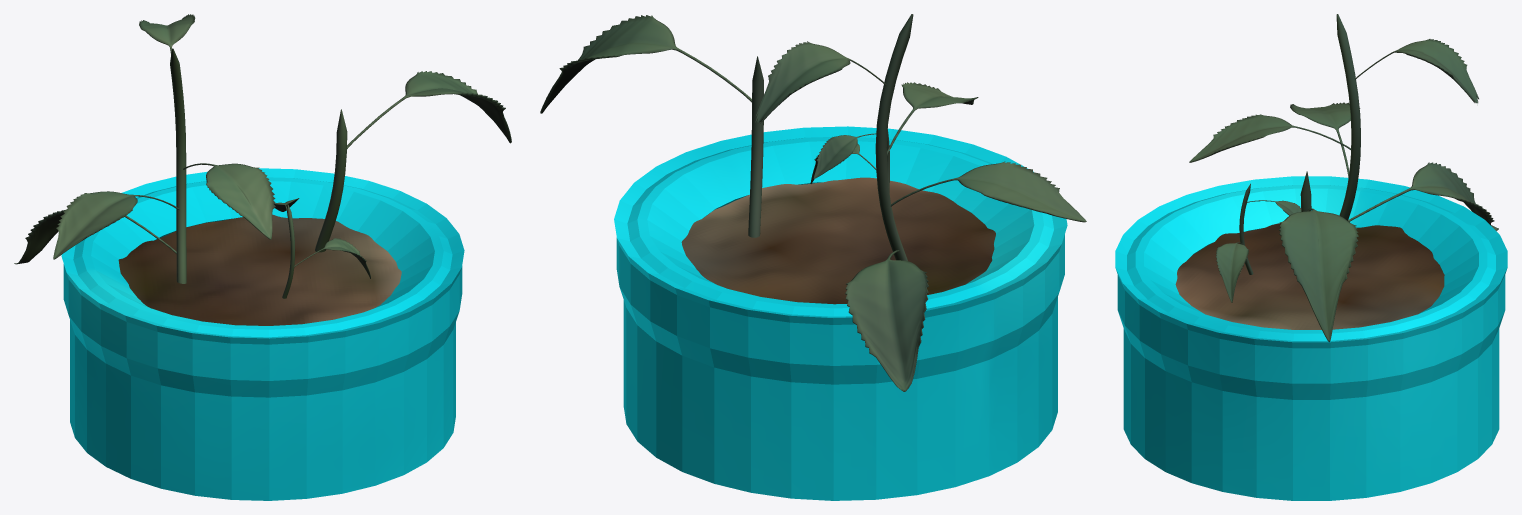
File: faza_1 (1).fbx
The picture shows the model from 3 angles, left to right: view 1: azimuth 30°, elevation 25°; view 2: azimuth 150°, elevation 25°; view 3: azimuth 270°, elevation 25°; orthographic projection. The views are drawn at different scales.
Parts seen in each view (by area): view 1: горшок.002, земля.002, list.007, Стебель.002, list.009, Стебель_3.002, list.008; view 2: горшок.002, земля.002, list.007, list.009, Стебель.002, Стебель_3.002, list.008; view 3: горшок.002, земля.002, list.007, list.009, Стебель.002, list.008.
Part boxes in pixels (bbox=[...]): горшок.002: bbox=[61, 168, 464, 500]; земля.002: bbox=[118, 214, 401, 325]; list.007: bbox=[14, 14, 275, 264]; Стебель.002: bbox=[170, 48, 186, 283]; list.009: bbox=[347, 71, 511, 148]; Стебель_3.002: bbox=[315, 109, 347, 252]; list.008: bbox=[274, 198, 370, 278]; горшок.002: bbox=[614, 126, 1067, 500]; земля.002: bbox=[681, 177, 995, 304]; list.007: bbox=[755, 41, 1086, 391]; list.009: bbox=[540, 15, 751, 113]; Стебель.002: bbox=[875, 14, 913, 260]; Стебель_3.002: bbox=[748, 56, 763, 237]; list.008: bbox=[810, 133, 876, 183]; горшок.002: bbox=[1115, 176, 1507, 500]; земля.002: bbox=[1175, 223, 1444, 329]; list.007: bbox=[1189, 39, 1498, 230]; list.009: bbox=[1279, 208, 1358, 341]; Стебель.002: bbox=[1336, 14, 1360, 220]; list.008: bbox=[1216, 200, 1301, 302].
Size of the model in its own units: 978 by 751 by 720.
1 material, 1 textured.
